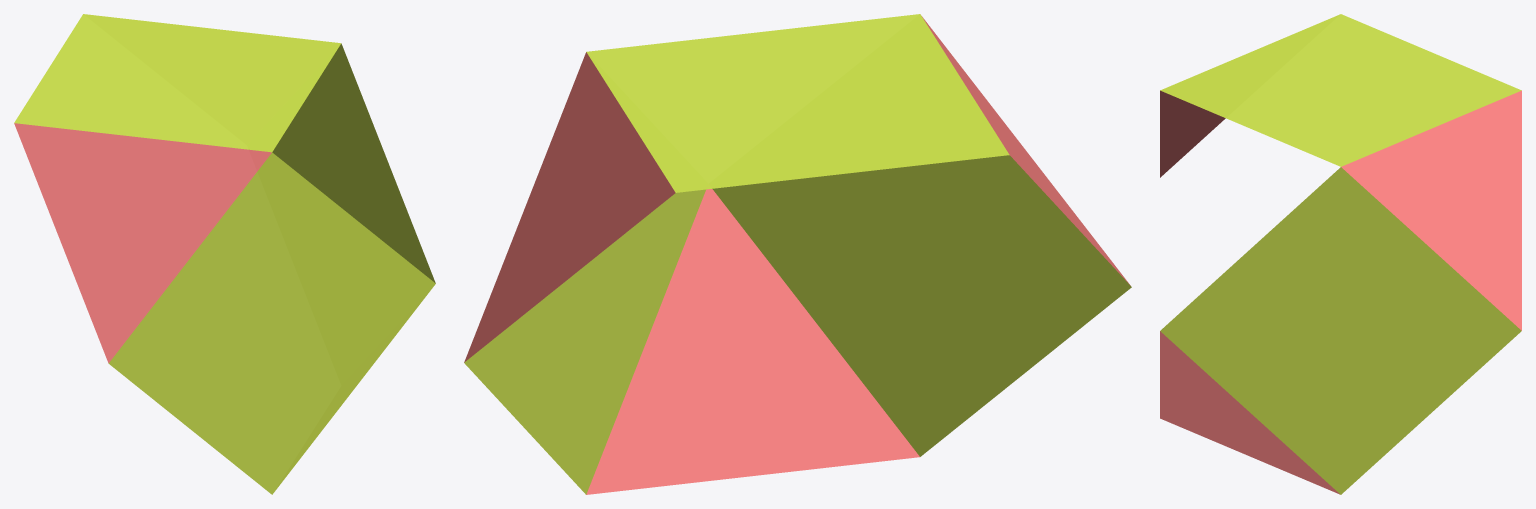
Rendered from TriangularCupolaA.obj.
3 renders of one model, left to right at view 1: azimuth 30°, elevation 25°; view 2: azimuth 150°, elevation 25°; view 3: azimuth 270°, elevation 25°, orthographic. The views are drawn at different scales.
Size of the model in its own units: 1.41 by 1.41 by 1.41.
